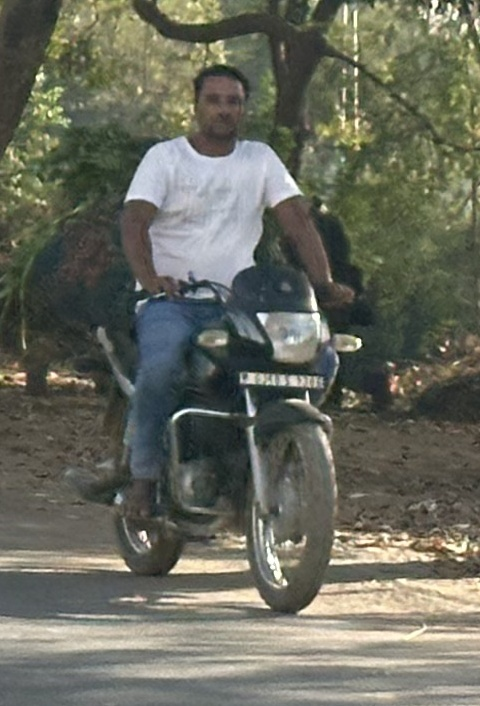BikeWithRider: (65, 25, 391, 616)
NoHelmet: (177, 61, 270, 159)
